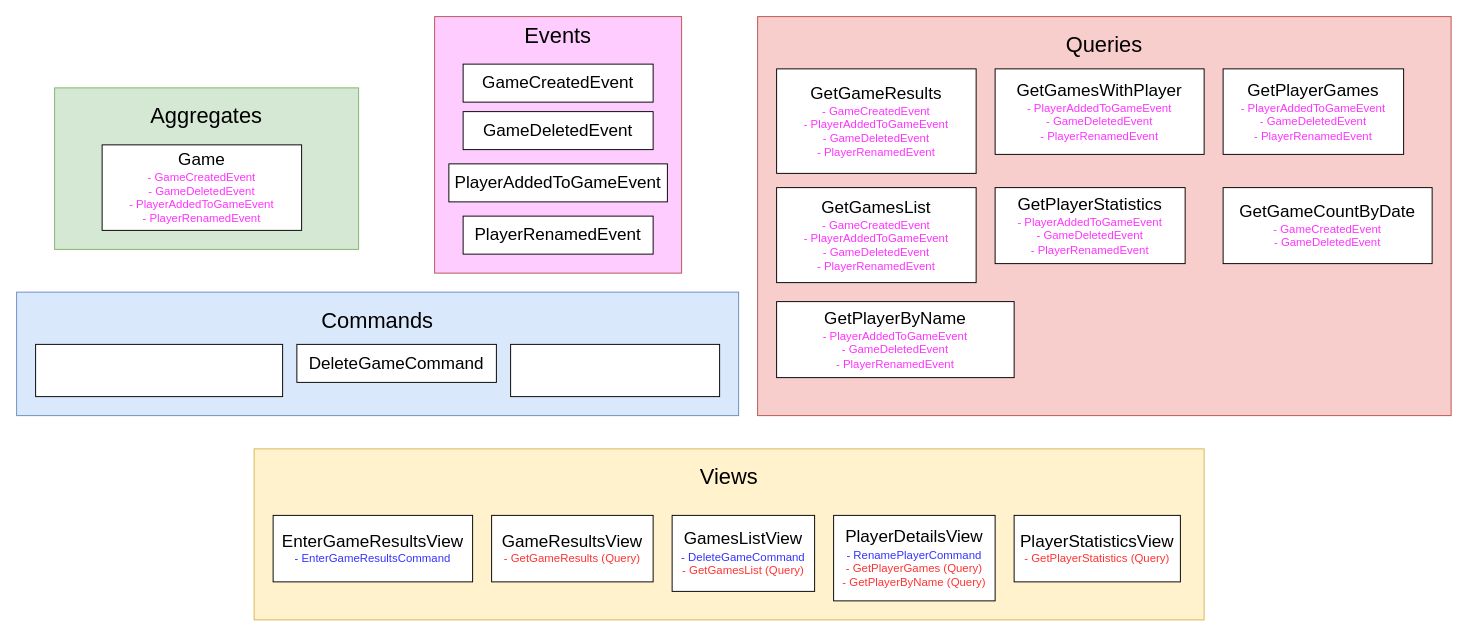
This 1468x637 diagram has some shape labels left out. Each missing label, with the box of its shape:
EnterGameResultsCommand - GetGameCountByDate (Query): (35, 343, 283, 397)
RenamePlayerCommand - GetGamesWithPlayer (Query): (510, 343, 720, 397)
